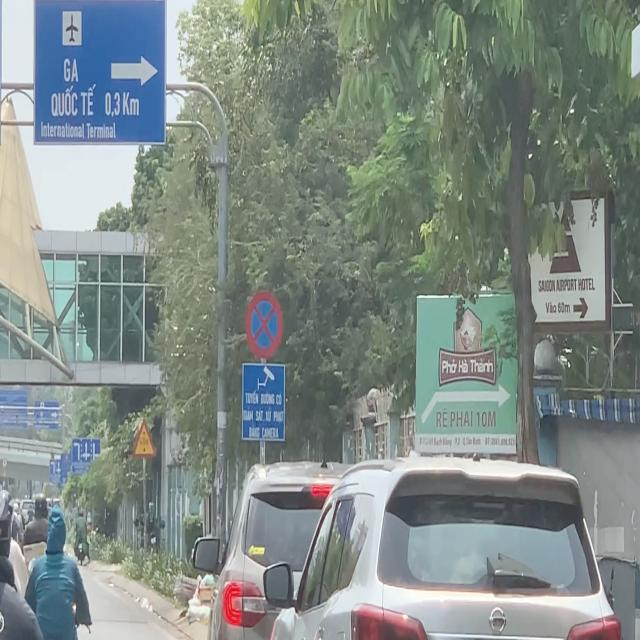Cam dung va do: (243, 289, 284, 360)
Nguy hiem: (133, 418, 156, 457)
